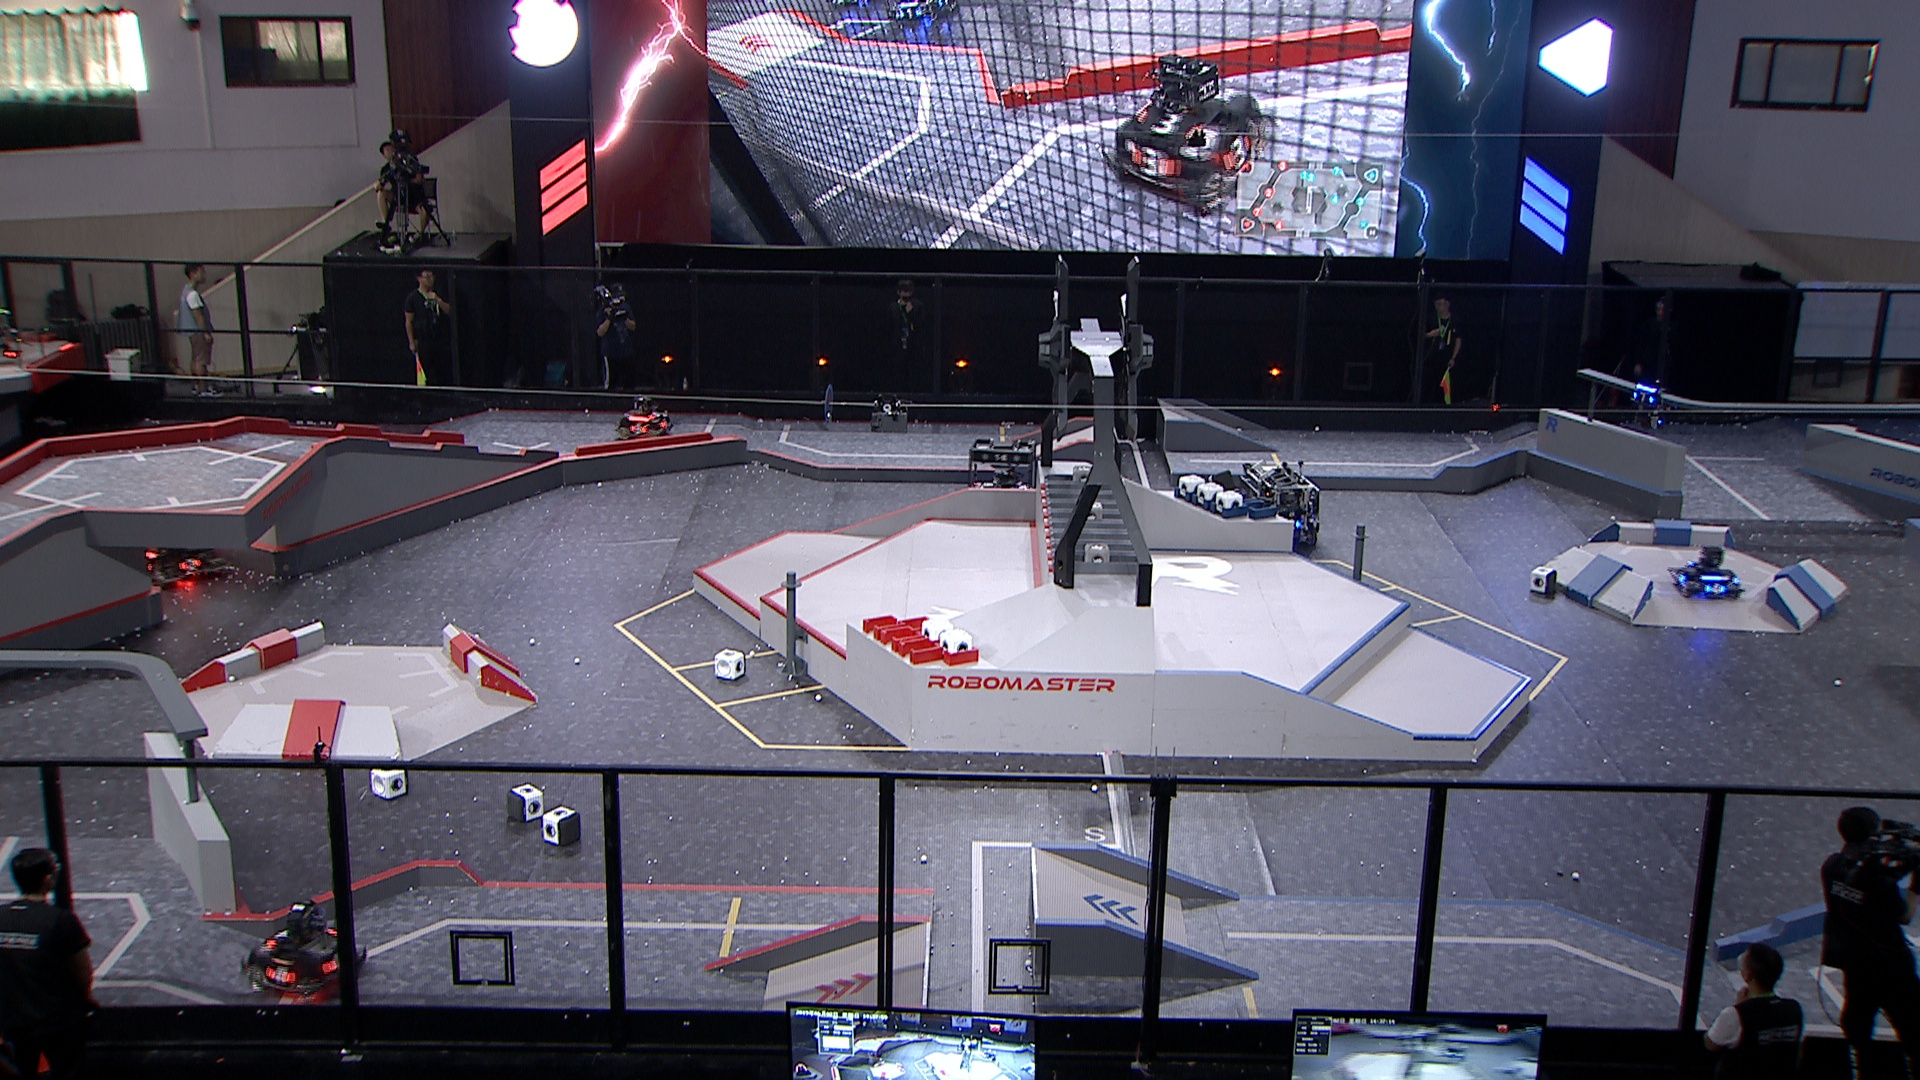armor: (264, 926, 291, 949), (266, 965, 295, 988), (178, 555, 204, 574), (1704, 582, 1727, 597), (1633, 390, 1656, 406), (628, 423, 647, 438), (1673, 570, 1691, 585)
car: (240, 897, 367, 1002), (117, 484, 225, 589), (1237, 463, 1323, 553), (955, 438, 1040, 520), (1669, 549, 1747, 603), (612, 392, 673, 439)
ignore: (1100, 57, 1273, 218)
watcher: (1631, 384, 1673, 431)
